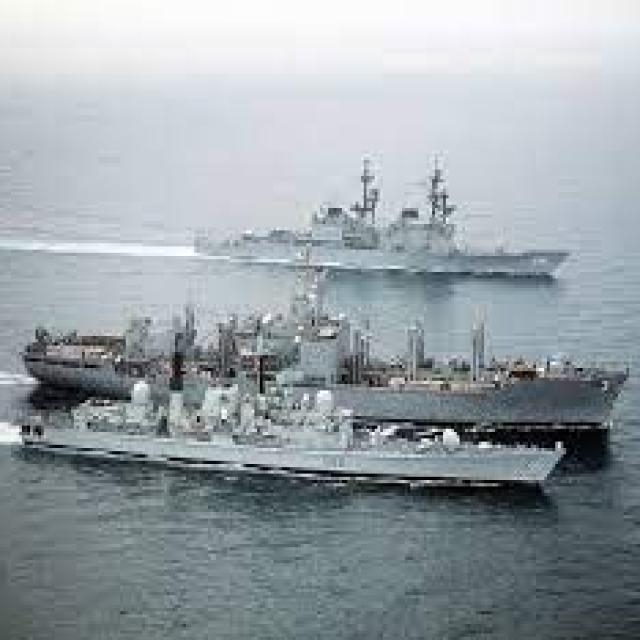navalvessels: (12, 291, 632, 439), (11, 334, 568, 470), (190, 178, 592, 284)
